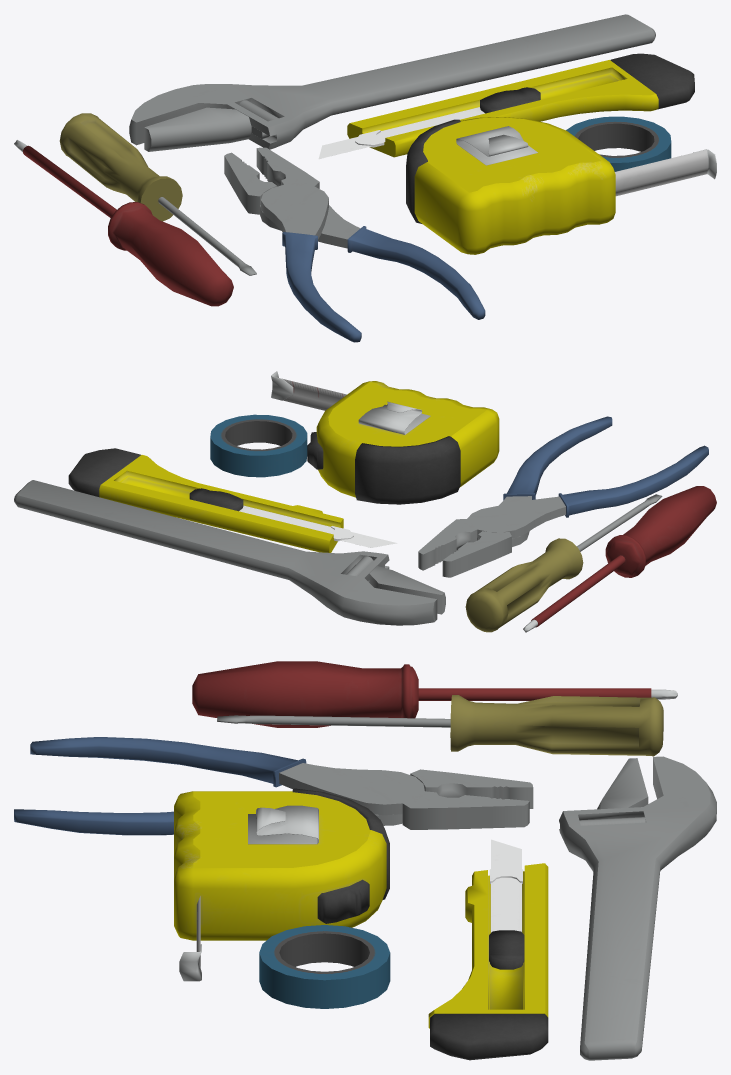
3 renders of one model, top to bottom at view 1: azimuth 30°, elevation 25°; view 2: azimuth 150°, elevation 25°; view 3: azimuth 270°, elevation 25°, orthographic. The views are drawn at different scales.
Parts seen in each view (by area): view 1: yardstick, wrench, knife, pliers, turnscrew, turnscrew2, insulatingtape; view 2: yardstick, wrench, knife, pliers, turnscrew, turnscrew2, insulatingtape; view 3: yardstick, wrench, pliers, knife, turnscrew, turnscrew2, insulatingtape.
Part boxes in pixels (x1,y1,x2,y2): yardstick: [406, 117, 716, 254]; wrench: [129, 14, 655, 151]; knife: [318, 53, 694, 158]; pliers: [224, 147, 485, 342]; turnscrew: [14, 140, 233, 306]; turnscrew2: [59, 113, 256, 275]; insulatingtape: [566, 116, 671, 171]; yardstick: [271, 371, 499, 504]; wrench: [14, 480, 445, 625]; knife: [68, 448, 397, 552]; pliers: [418, 416, 708, 577]; turnscrew: [523, 486, 716, 632]; turnscrew2: [465, 494, 662, 632]; insulatingtape: [210, 414, 307, 477]; yardstick: [174, 788, 389, 981]; wrench: [559, 756, 716, 1060]; pliers: [14, 737, 533, 835]; knife: [428, 839, 548, 1060]; turnscrew: [192, 661, 677, 727]; turnscrew2: [217, 695, 663, 756]; insulatingtape: [259, 925, 390, 1008].
Size of the model in its own units: 2934 by 335 by 2415.
1 material, 1 textured.
